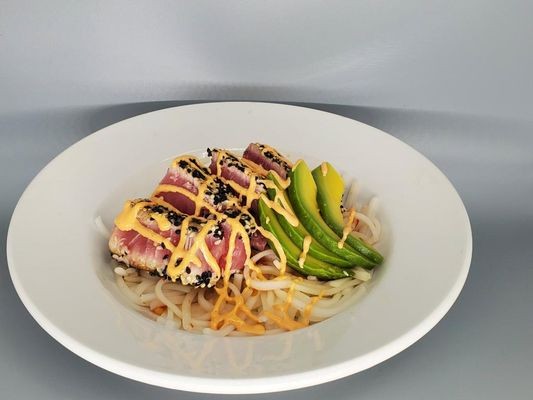sushi: (9, 90, 473, 392)
